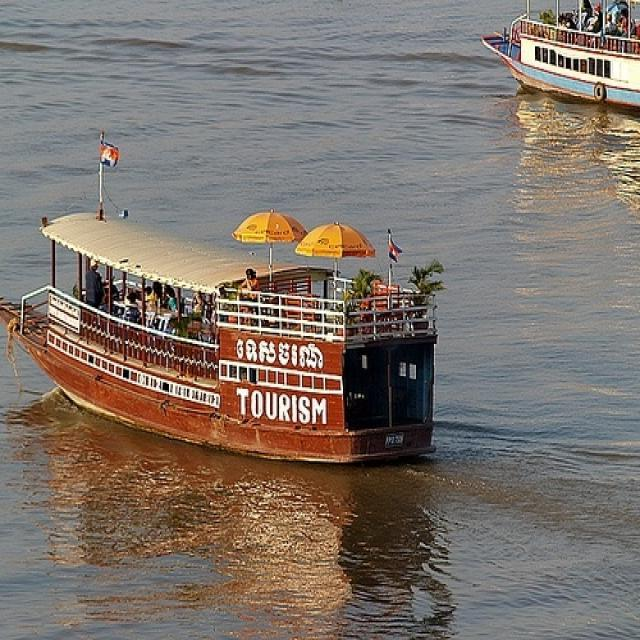boat: (0, 202, 454, 458)
